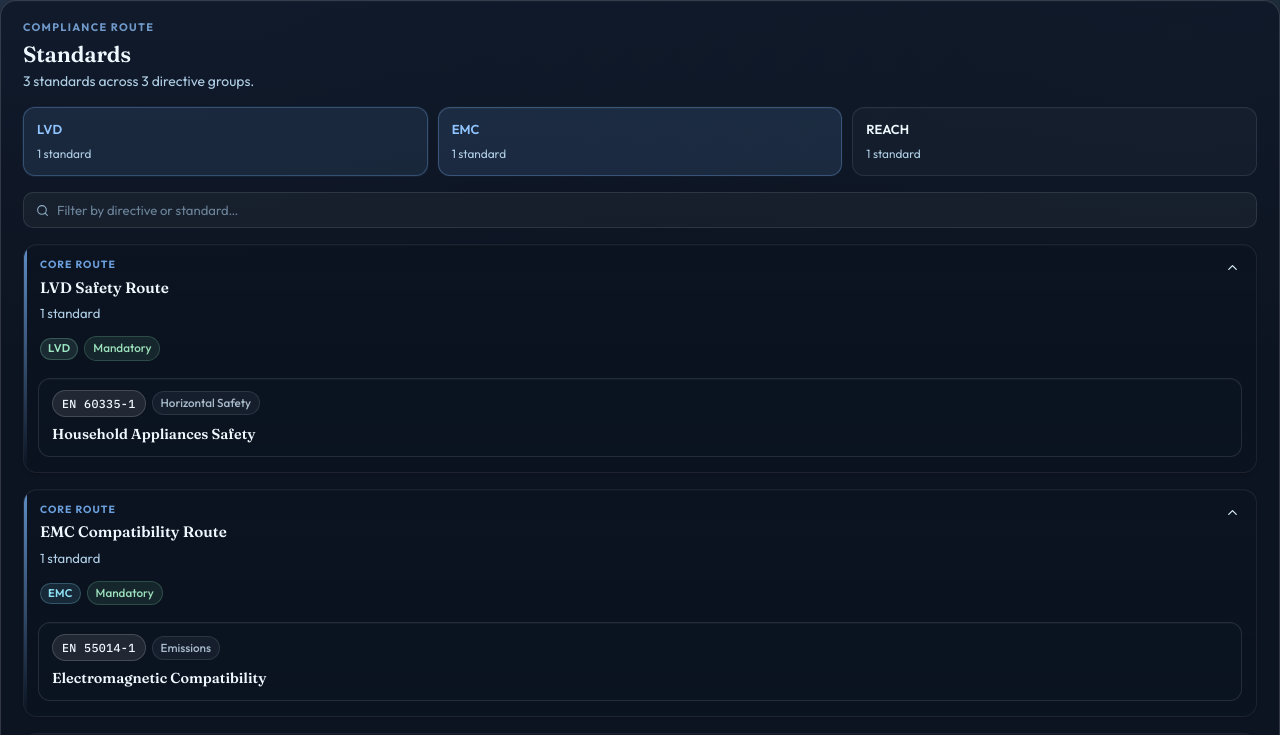
StandardsRoutePanel search/filter › filter hides sections that do not match the query
In the search field named "filter standards": [652, 210] box x1=57 y1=198 x2=1246 y2=222, type "EMC"
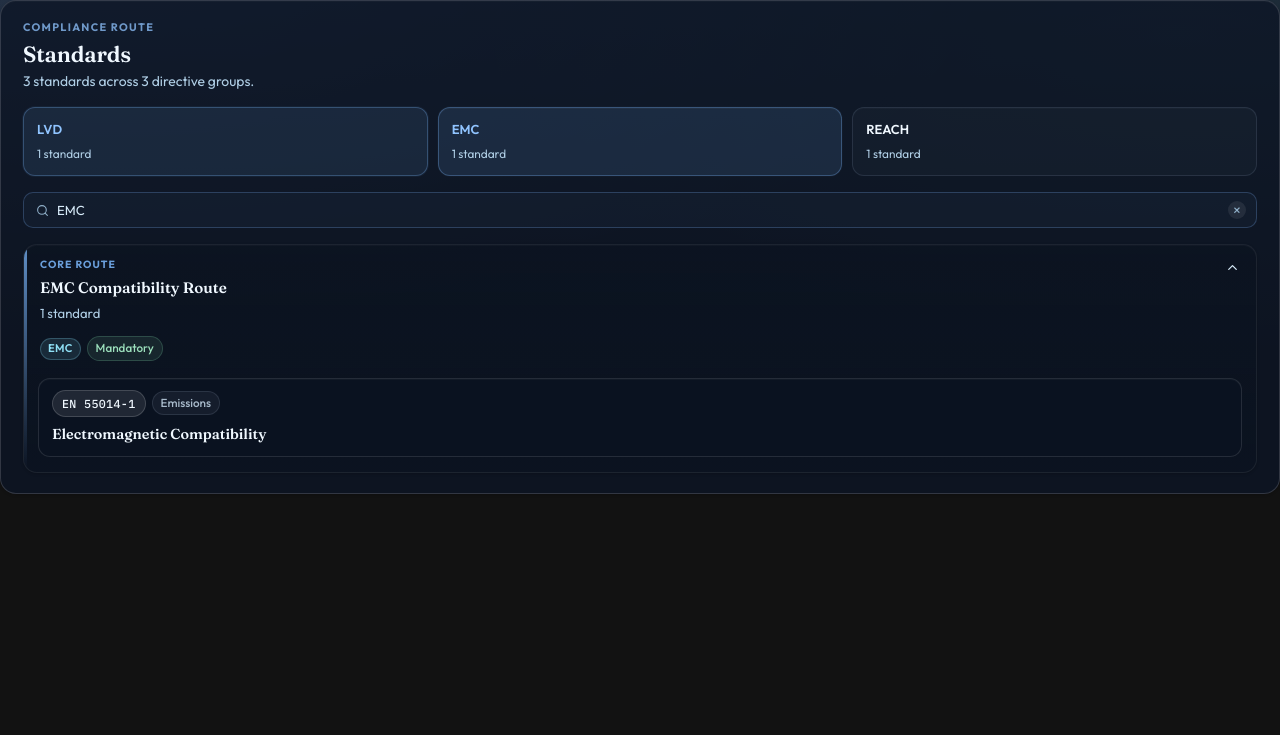
Expected: the button "Core route EMC Compatibility Route 1 standard EMC Mandatory" is shown, x1=24 y1=245 x2=1256 y2=376
Result: the button "LVD Safety Route" is gone
